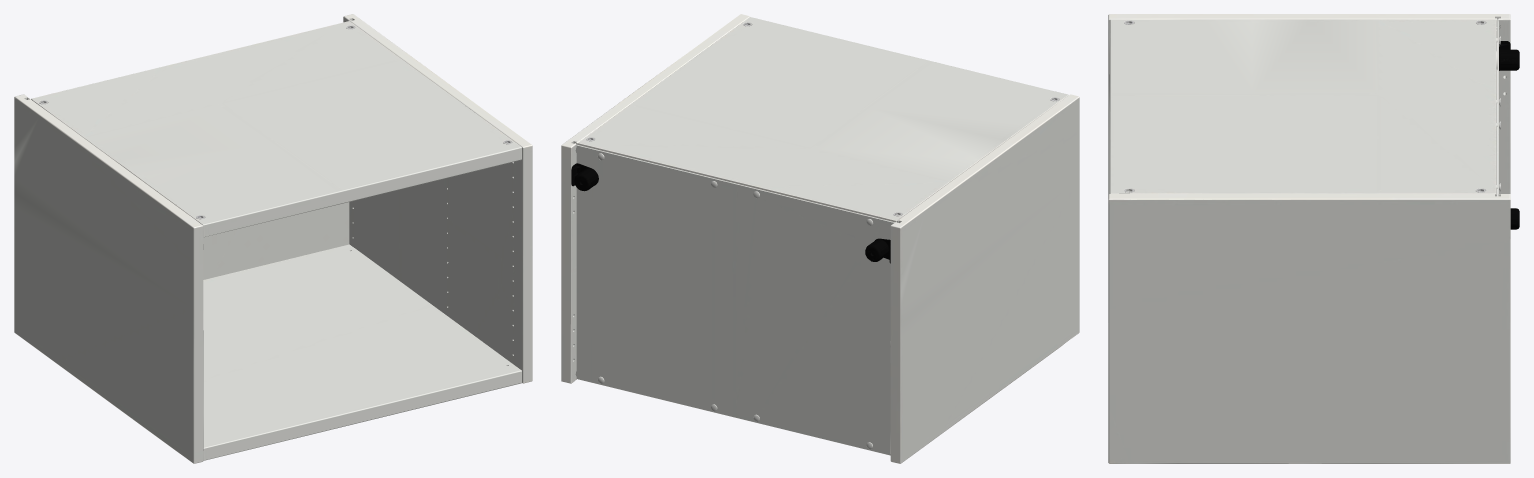
Rendered from platsa_obudowa_90330949.glb.
3 renders of one model, left to right at view 1: azimuth 30°, elevation 25°; view 2: azimuth 150°, elevation 25°; view 3: azimuth 270°, elevation 25°, orthographic. The views are drawn at different scales.
Visible parts, largest first — view 1: platsa_obudowa_90330949; view 2: platsa_obudowa_90330949; view 3: platsa_obudowa_90330949.
Boxes of the visible parts, <box> form: platsa_obudowa_90330949: <box>14,14,532,463</box>; platsa_obudowa_90330949: <box>561,14,1079,463</box>; platsa_obudowa_90330949: <box>1108,14,1519,463</box>.
Size of the model in its own units: 0.6 by 0.4001 by 0.562.
1 material, 1 textured.
